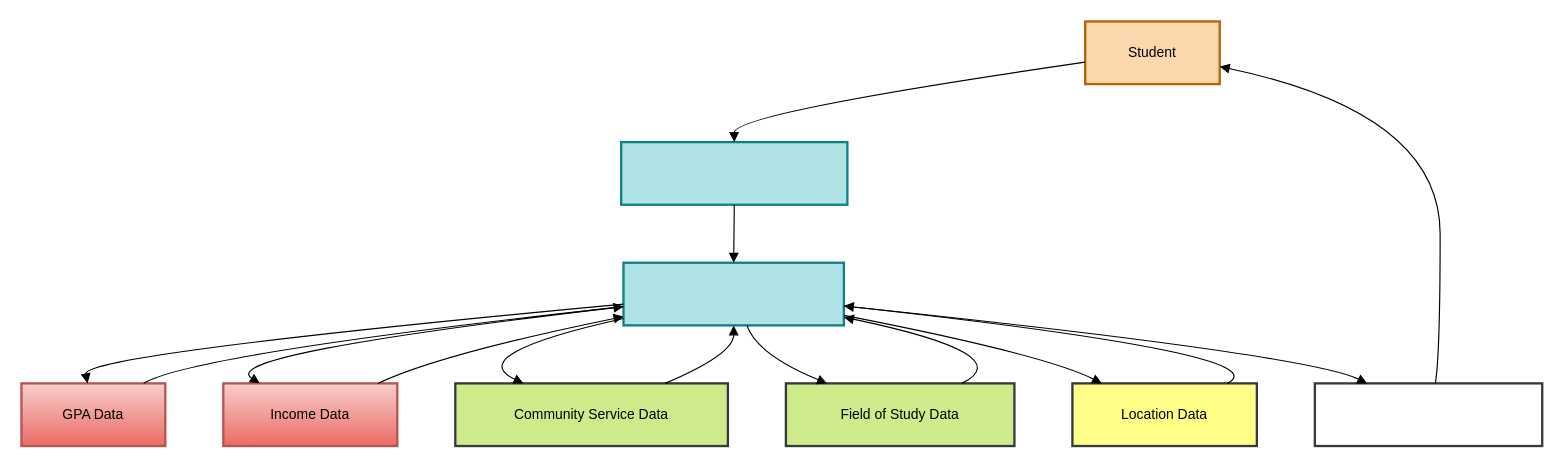
This 1563x466 diagram has some shape labels left out. The box of each missing label's shape, as (x1, y1, x2, y2) in pixels:
Eligibility Checker: (622, 261, 844, 326)
Input Student Data: (619, 140, 848, 205)
Scholarship Results: (1313, 382, 1543, 447)
